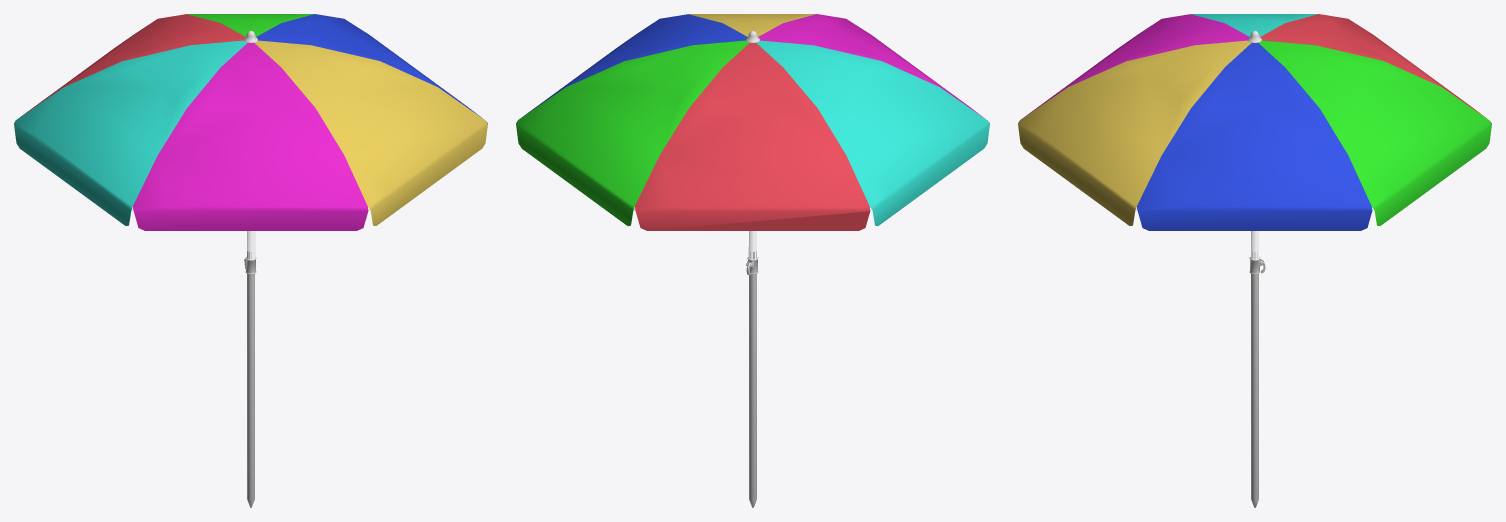
The model's file is beach_umbrella.glb.
3 views of the same model, side by side, from view 1: azimuth 30°, elevation 25°; view 2: azimuth 150°, elevation 25°; view 3: azimuth 270°, elevation 25° (orthographic).
Visible parts, largest first — view 1: beach_umbrella; view 2: beach_umbrella; view 3: beach_umbrella.
Boxes of the visible parts, x1,y1,x2,y2 form: beach_umbrella: (14, 14, 487, 507); beach_umbrella: (516, 14, 989, 507); beach_umbrella: (1018, 14, 1491, 507).
Size of the model in its own units: 1.96 by 2.5 by 2.25.
